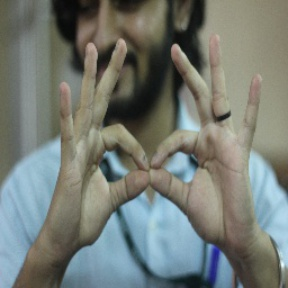B: (90, 118, 212, 214)
